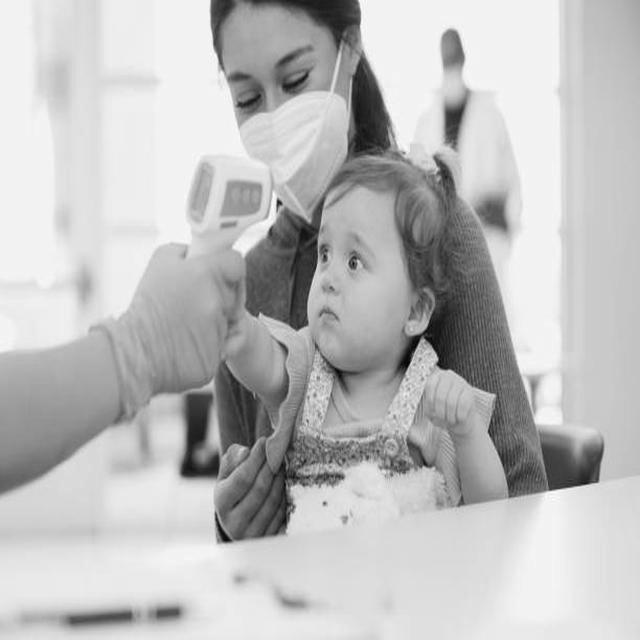Fear: (309, 196, 389, 362)
